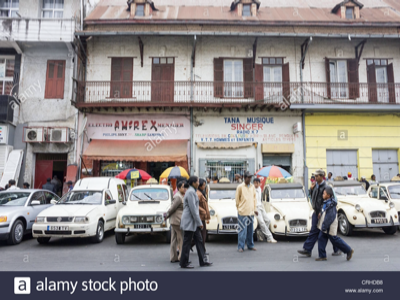licence: (48, 225, 72, 232), (290, 227, 308, 236), (134, 224, 153, 231), (373, 219, 388, 224)
